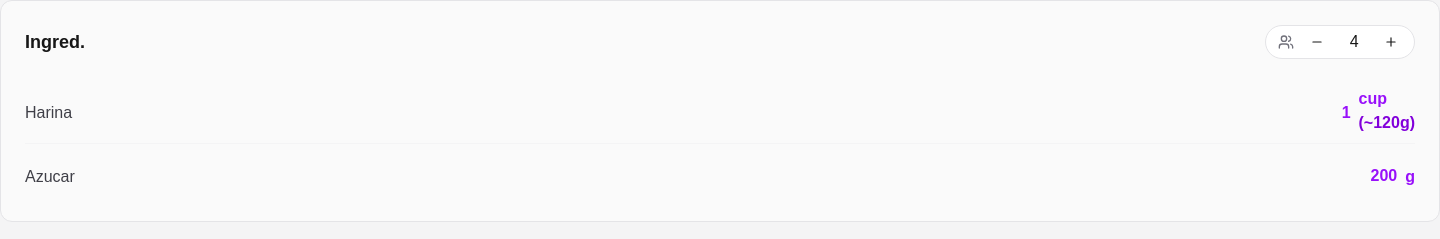
Test: PortionScaler › scales amounts when decrementing servings
Click the 1st button at (1317, 42), box [1306,31,1328,53]
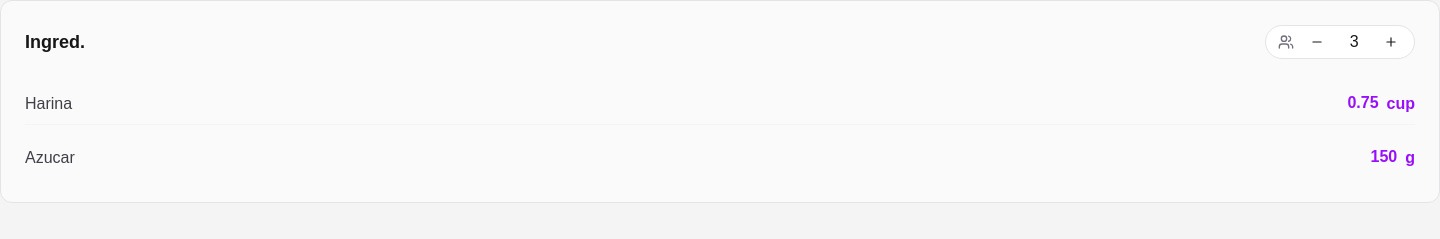
Now the text "3" is shown, box [1350,33,1359,50]
Now the number field showing "0.75" next to "cup" is shown, box [1314,91,1378,116]
